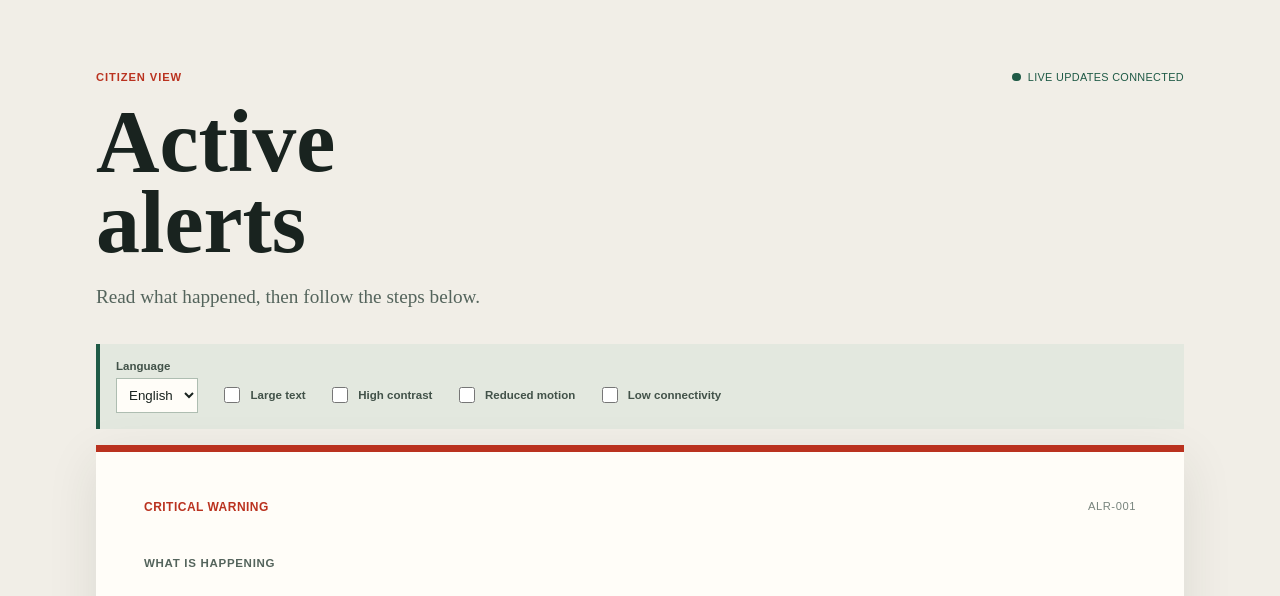
Test: CitizenPage › changes the alert representation when a language is selected
The width and height of the screenshot is (1280, 596).
Select "हिन्दी" in the dropdown labelled "Language" at coordinates (157, 395), box top-left (116, 378), bottom-right (198, 413)
(page scrolled)
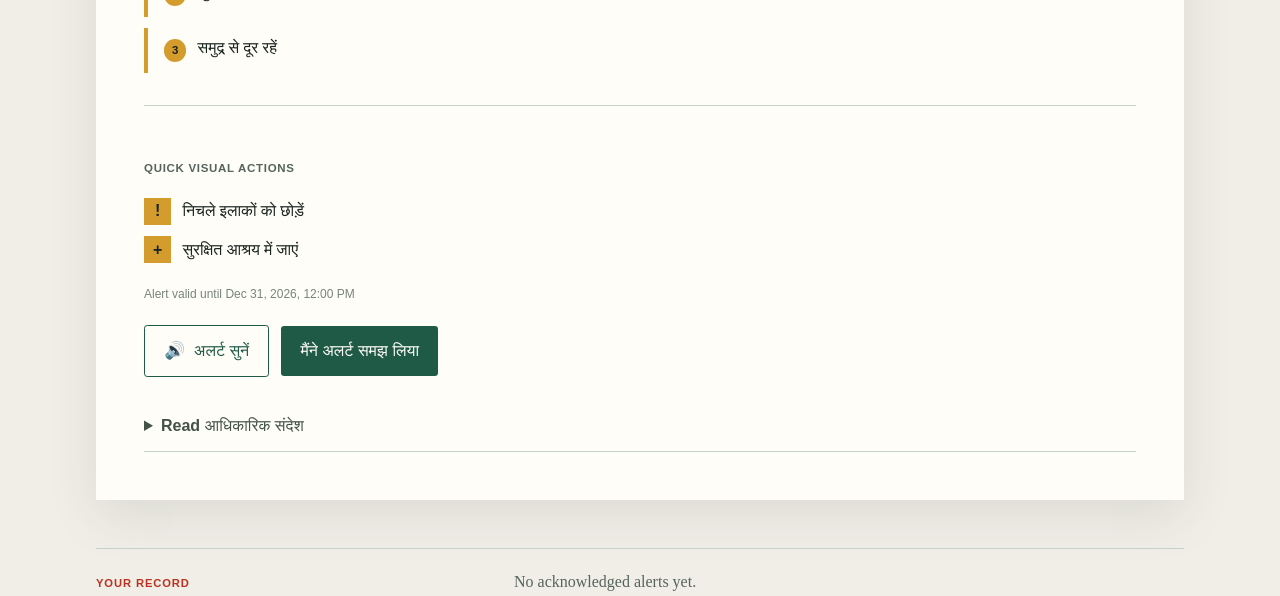
Expected: the button "🔊 अलर्ट सुनें" is shown, top-left (144, 325), bottom-right (269, 377)
Expected: the button "मैंने अलर्ट समझ लिया" is shown, top-left (281, 326), bottom-right (438, 376)
